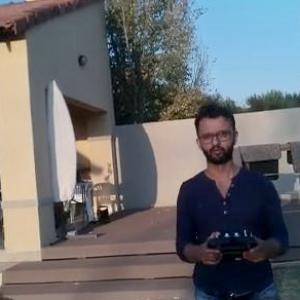follow: (170, 98, 292, 299)
